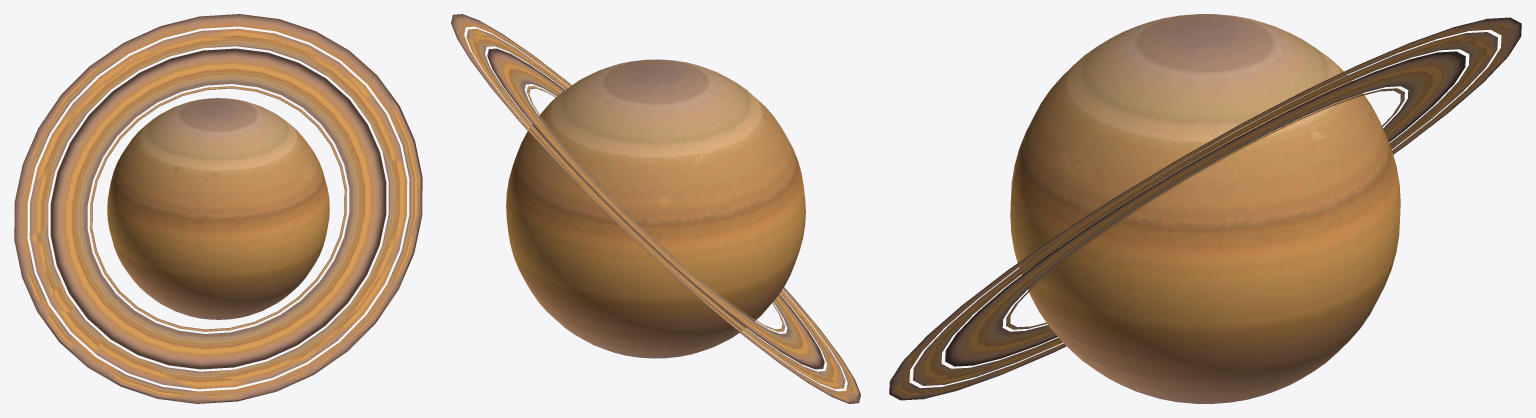
The model's file is Saturn.fbx.
3 renders of one model, left to right at view 1: azimuth 30°, elevation 25°; view 2: azimuth 150°, elevation 25°; view 3: azimuth 270°, elevation 25°, orthographic. The views are drawn at different scales.
Visible parts, largest first — view 1: Saturn.001, Saturn.002; view 2: Saturn.002, Saturn.001; view 3: Saturn.002, Saturn.001.
Part boxes in pixels (x1,y1,x2,y2): Saturn.001: [14, 14, 422, 403]; Saturn.002: [107, 98, 329, 319]; Saturn.002: [506, 59, 805, 358]; Saturn.001: [451, 14, 860, 403]; Saturn.002: [1010, 14, 1400, 403]; Saturn.001: [889, 17, 1521, 400].
Size of the model in its own units: 15.72 by 12.82 by 15.69.
